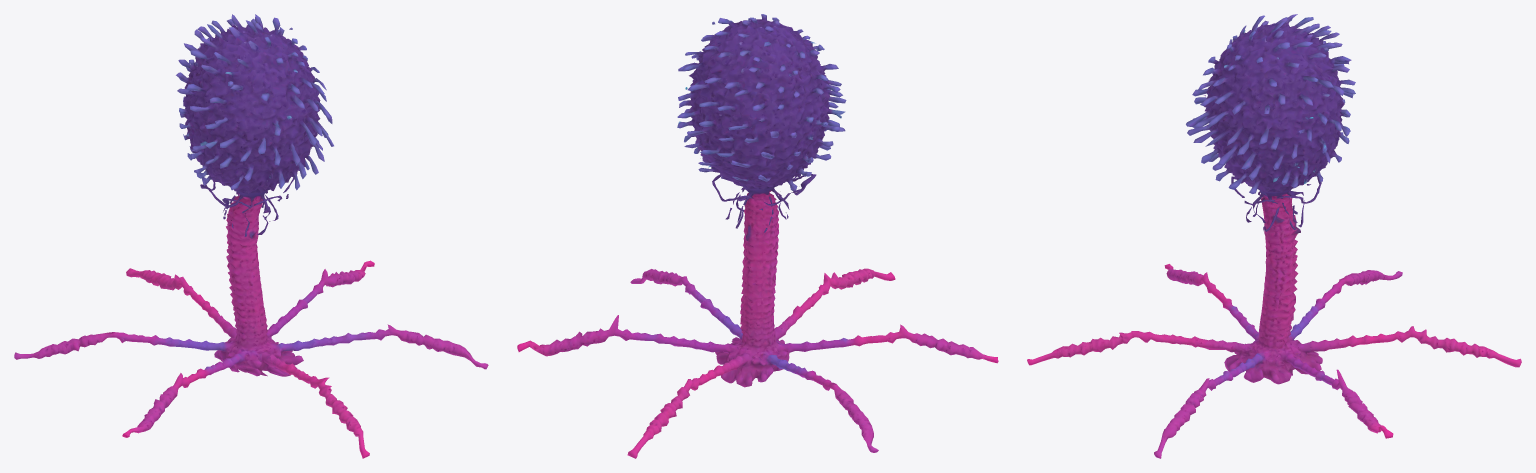
File: phage.glb
3 views of the same model, side by side, from view 1: azimuth 30°, elevation 25°; view 2: azimuth 150°, elevation 25°; view 3: azimuth 270°, elevation 25° (orthographic). The views are drawn at different scales.
Visible parts, largest first — view 1: attack-membrane; view 2: attack-membrane; view 3: attack-membrane.
Boxes of the visible parts, bbox=[...] form: attack-membrane: bbox=[14, 14, 488, 458]; attack-membrane: bbox=[517, 14, 998, 458]; attack-membrane: bbox=[1027, 14, 1521, 458].
Bounding box in the file's own units: 1.73 × 1.58 × 2.03.
Materials: 1 (1 with a texture image).
